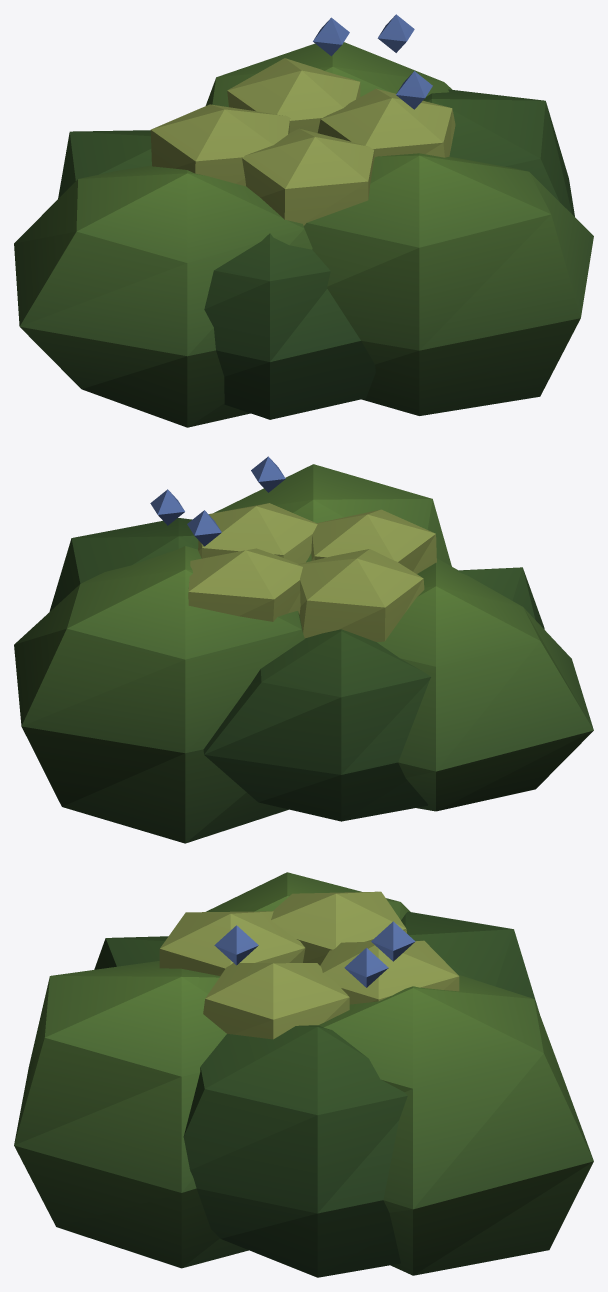
File: fern_bush.glb
3 renders of one model, top to bottom at view 1: azimuth 30°, elevation 25°; view 2: azimuth 150°, elevation 25°; view 3: azimuth 270°, elevation 25°, orthographic. The views are drawn at different scales.
Visible parts, largest first — view 1: fern_bush; view 2: fern_bush; view 3: fern_bush.
Boxes of the visible parts, x1,y1,x2,y2 form: fern_bush: [14, 14, 593, 427]; fern_bush: [14, 456, 593, 843]; fern_bush: [14, 872, 593, 1277].
Bounding box in the file's own units: 1.51 × 0.7888 × 1.3.
